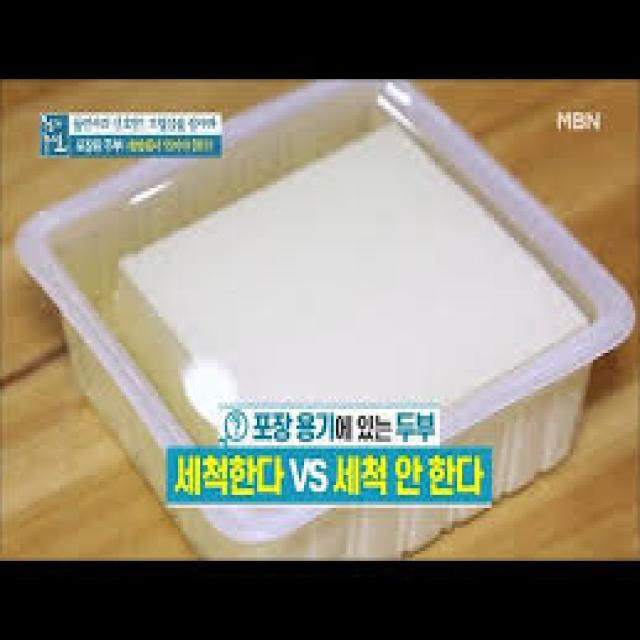tofu: (117, 163, 598, 450)
